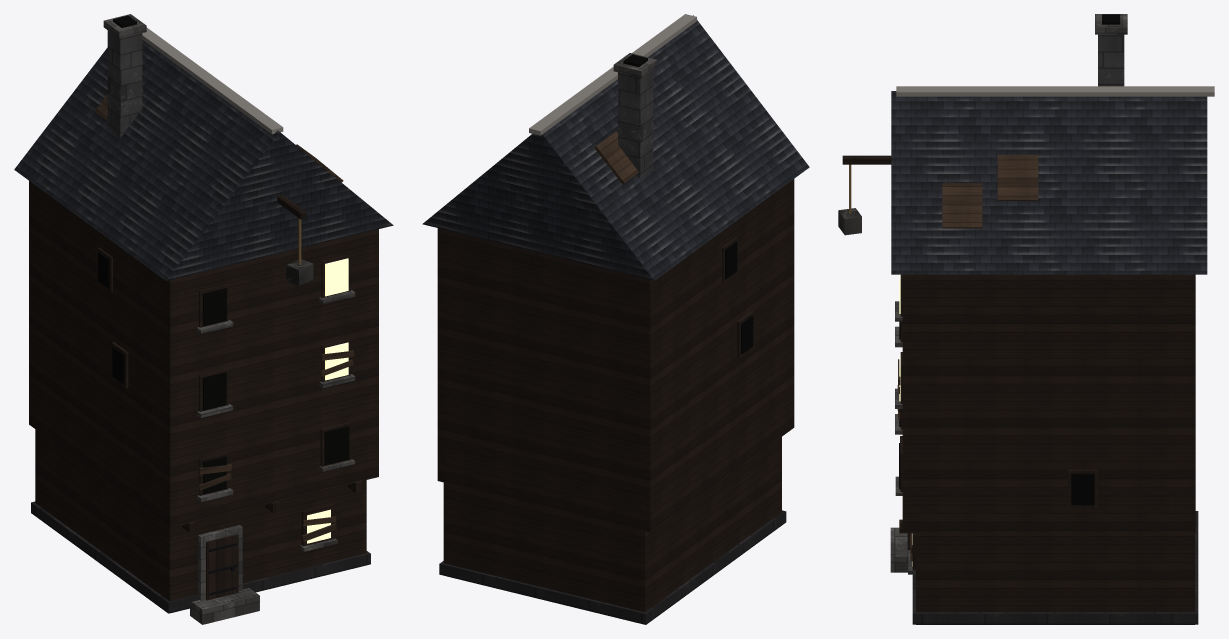
Rendered from CasaS12.gltf.
The picture shows the model from 3 angles, left to right: view 1: azimuth 30°, elevation 25°; view 2: azimuth 150°, elevation 25°; view 3: azimuth 270°, elevation 25°; orthographic projection. The views are drawn at different scales.
Parts seen in each view (by area): view 1: CasaS12; view 2: CasaS12; view 3: CasaS12.
Part boxes in pixels (<box>): CasaS12: <box>14,14,393,624</box>; CasaS12: <box>422,14,809,624</box>; CasaS12: <box>838,14,1214,624</box>.
Size of the model in its own units: 7.65 by 16.68 by 10.54.
12 materials, 7 textured.
